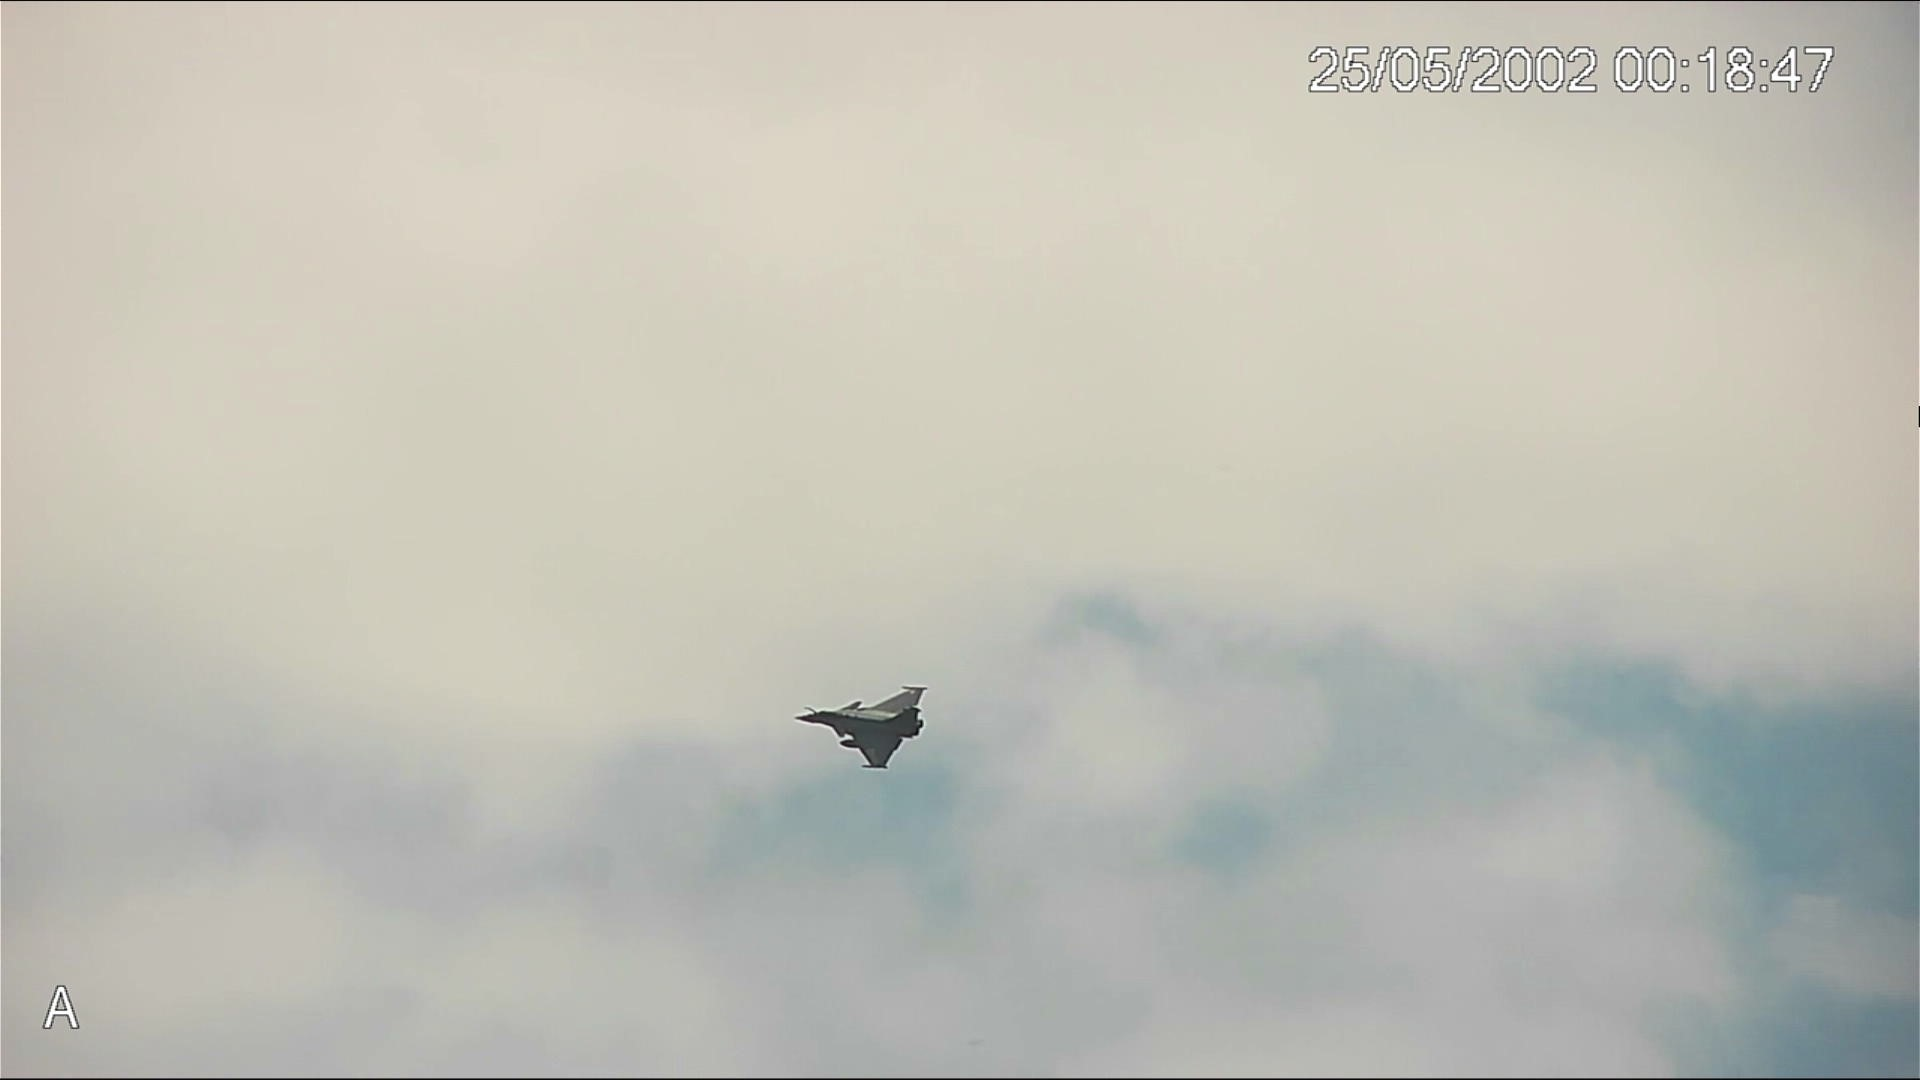SU_30: (793, 682, 945, 773)
